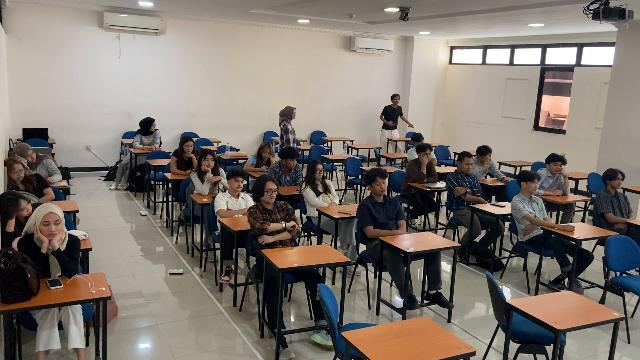bosan: (41, 216, 62, 240), (18, 199, 33, 217), (264, 184, 278, 203), (372, 180, 388, 194), (12, 165, 25, 182), (527, 180, 539, 195), (462, 158, 473, 173), (613, 175, 624, 190), (233, 176, 243, 192), (551, 162, 563, 175), (27, 150, 37, 164), (315, 163, 324, 178), (203, 157, 215, 168), (184, 141, 194, 153), (422, 150, 432, 162), (262, 148, 271, 161), (288, 156, 297, 169)
